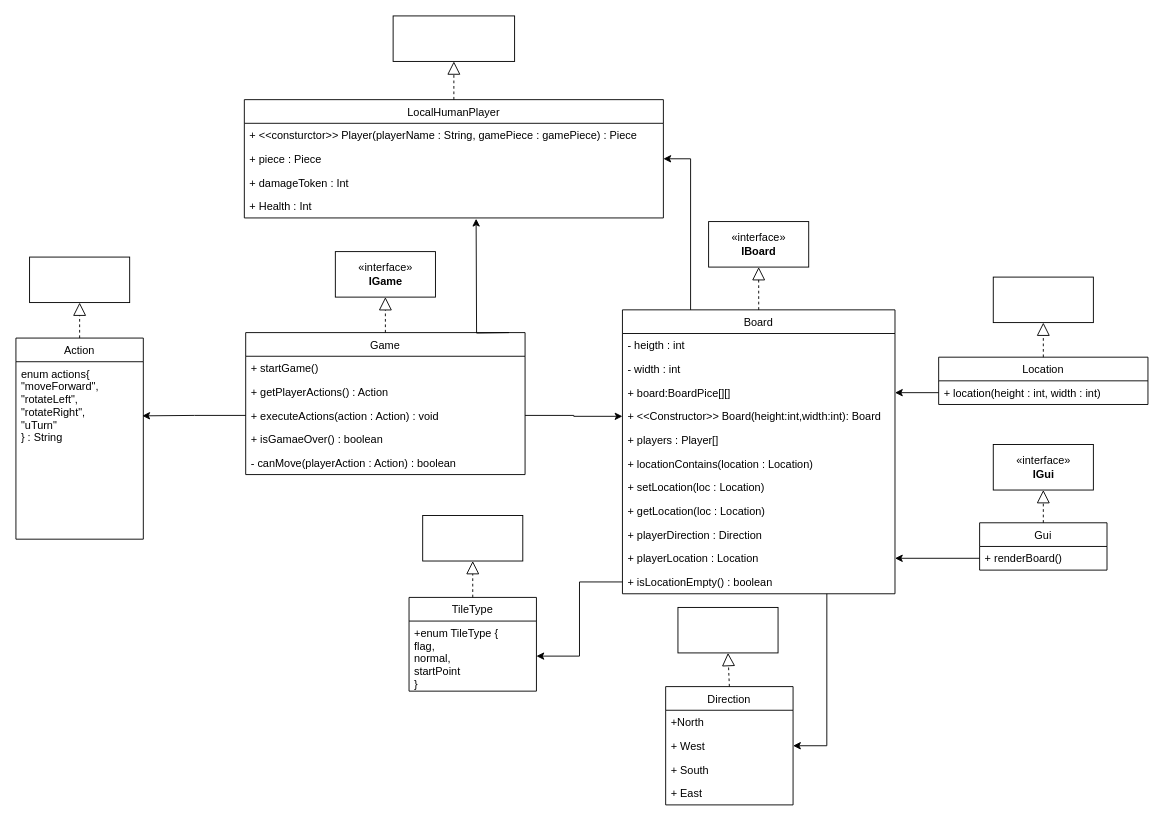
Image size: 1164x824. Some labels were removed from this diagram. The shapes that lost their labels are listed below. From the top down, each one's centre as x and y in pixels, then its label:
the point at 453,38: «interface» IPlayer
the point at 79,279: «interface» IAction
the point at 1042,299: «interface» ILocation
the point at 472,538: «interface» ITileType
the point at 727,630: «interface» IDirection
